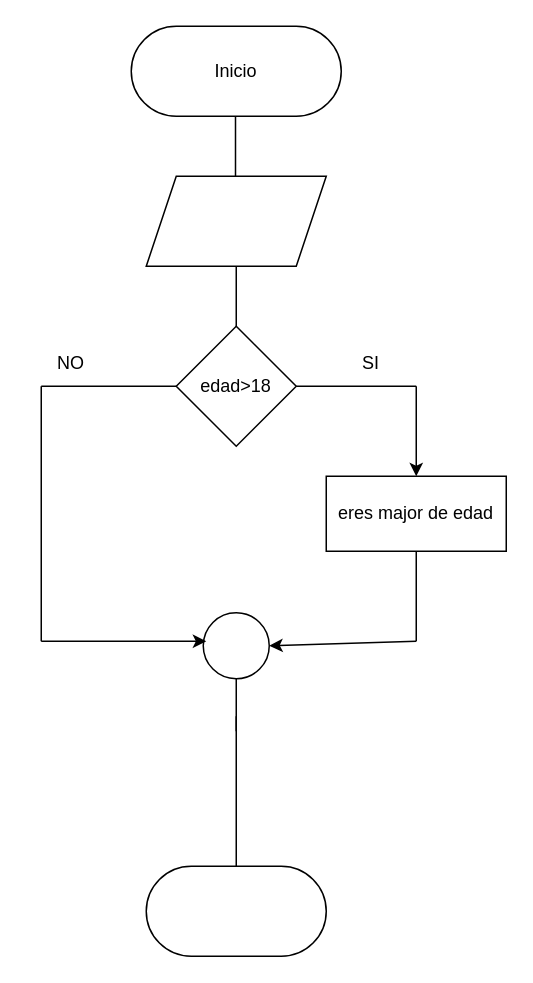
This 533x983 diagram has some shape labels left out. The centre of each missing label's shape, as x and y in pixels:
"Fin" goes at (235,910).
"leer edad" goes at (235,220).
